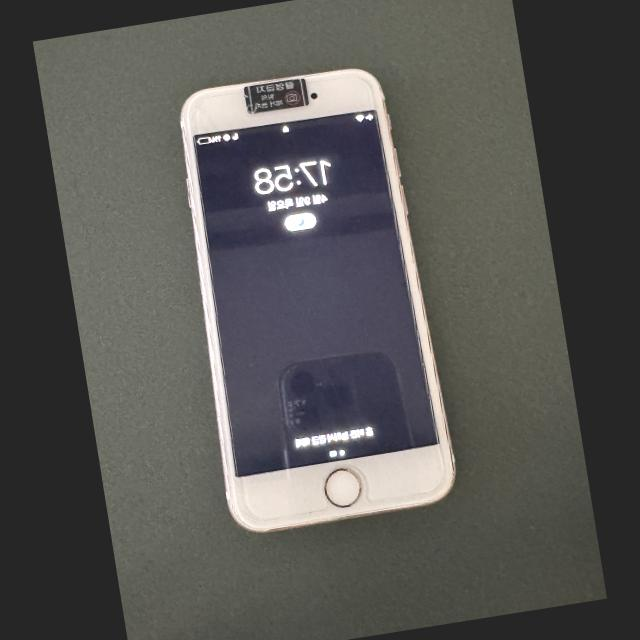phone: (181, 69, 455, 532)
sticker: (244, 78, 309, 113)
